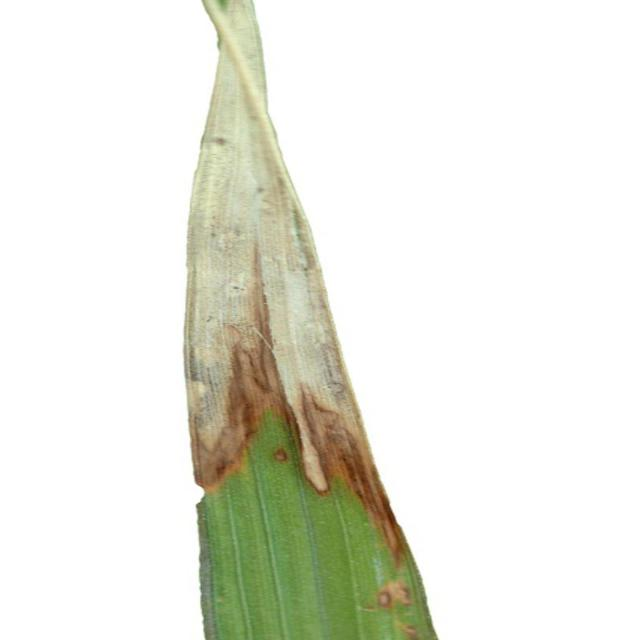Leaf scald: (174, 0, 444, 640)
